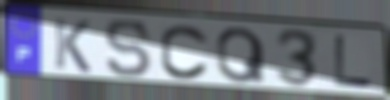3: (275, 27, 320, 91)
C: (159, 23, 212, 82)
K: (51, 16, 93, 75)
L: (333, 34, 375, 91)
Q: (214, 26, 268, 85)
S: (103, 18, 154, 80)
